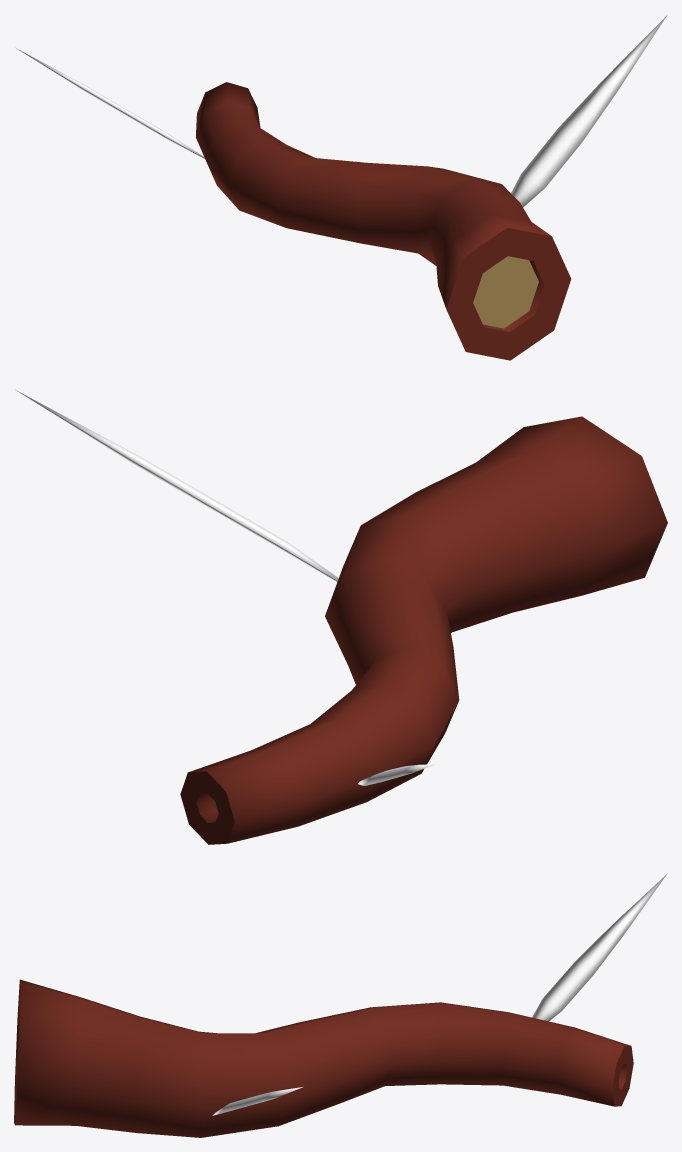
Rendered from SM_Resource_WillowBranch.fbx.
3 views of the same model, one above another, from view 1: azimuth 30°, elevation 25°; view 2: azimuth 150°, elevation 25°; view 3: azimuth 270°, elevation 25° (orthographic). The views are drawn at different scales.
Visible parts, largest first — view 1: SM_WillowBranch; view 2: SM_WillowBranch; view 3: SM_WillowBranch.
Boxes of the visible parts, bbox=[...] form: SM_WillowBranch: bbox=[16, 14, 667, 360]; SM_WillowBranch: bbox=[16, 390, 667, 844]; SM_WillowBranch: bbox=[14, 873, 667, 1137].
Size of the model in its own units: 126 by 43.73 by 137.
